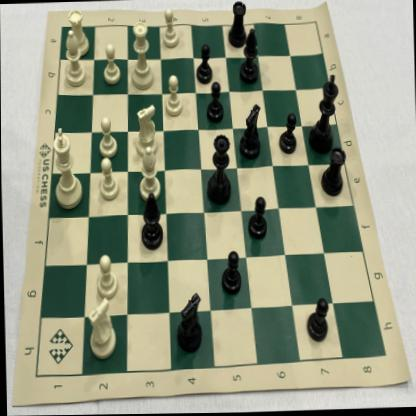black-bishop: (130, 189, 165, 252), (237, 25, 262, 88)
black-king: (305, 69, 342, 159)
black-pawn: (302, 295, 331, 347), (217, 246, 243, 299), (243, 193, 268, 242), (203, 76, 225, 127), (192, 39, 215, 87), (276, 111, 298, 158)
black-queen: (203, 132, 235, 207)
black-rook: (317, 144, 349, 202), (225, 0, 249, 52)
white-bishop: (135, 144, 164, 206), (60, 27, 88, 90)
white-king: (47, 121, 87, 213)
white-knight: (84, 297, 122, 363), (132, 100, 159, 157)
white-pawn: (91, 250, 119, 301), (95, 155, 122, 203), (160, 71, 185, 120), (95, 111, 119, 161), (99, 40, 123, 87), (159, 6, 181, 51)
white-queen: (126, 19, 157, 94)
white-rook: (66, 4, 93, 59)
